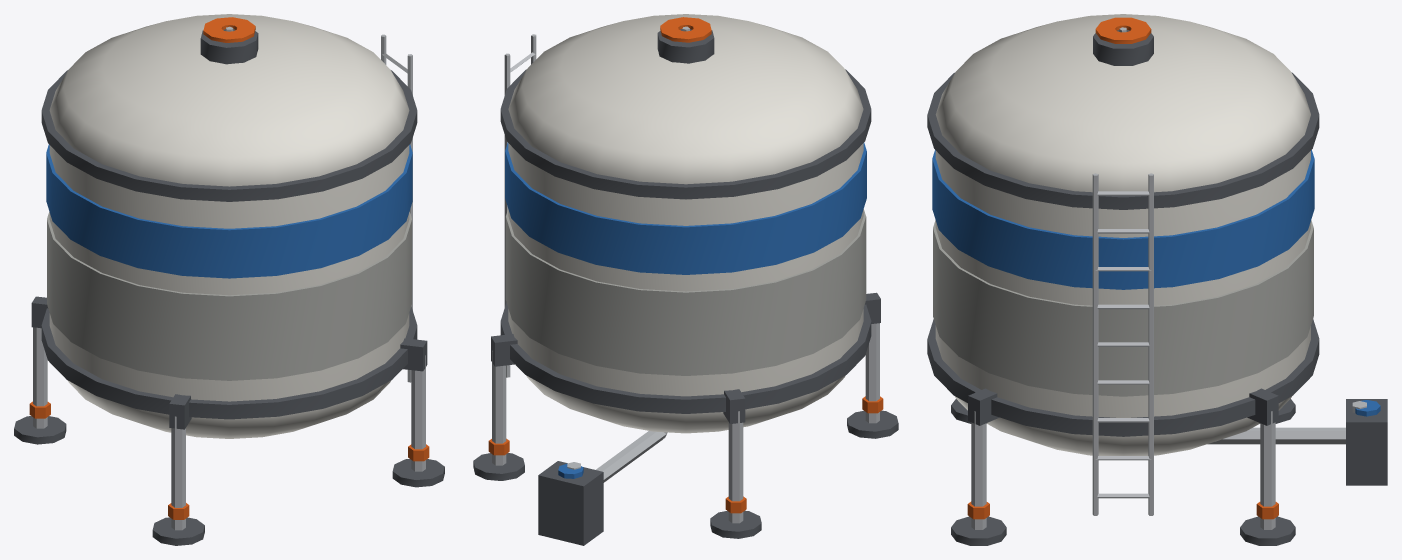
File: water_tank.glb
The picture shows the model from 3 angles, left to right: view 1: azimuth 30°, elevation 25°; view 2: azimuth 150°, elevation 25°; view 3: azimuth 270°, elevation 25°; orthographic projection. The views are drawn at different scales.
Visible parts, largest first — view 1: body; view 2: body; view 3: body.
Boxes of the visible parts, left/top/right/bottom form: body: left=14, top=14, right=444, bottom=545; body: left=473, top=14, right=898, bottom=545; body: left=927, top=14, right=1387, bottom=545.
Bounding box in the file's own units: 2.88 × 3.53 × 3.31.
